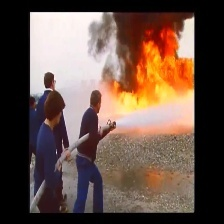fire: (106, 27, 193, 112)
